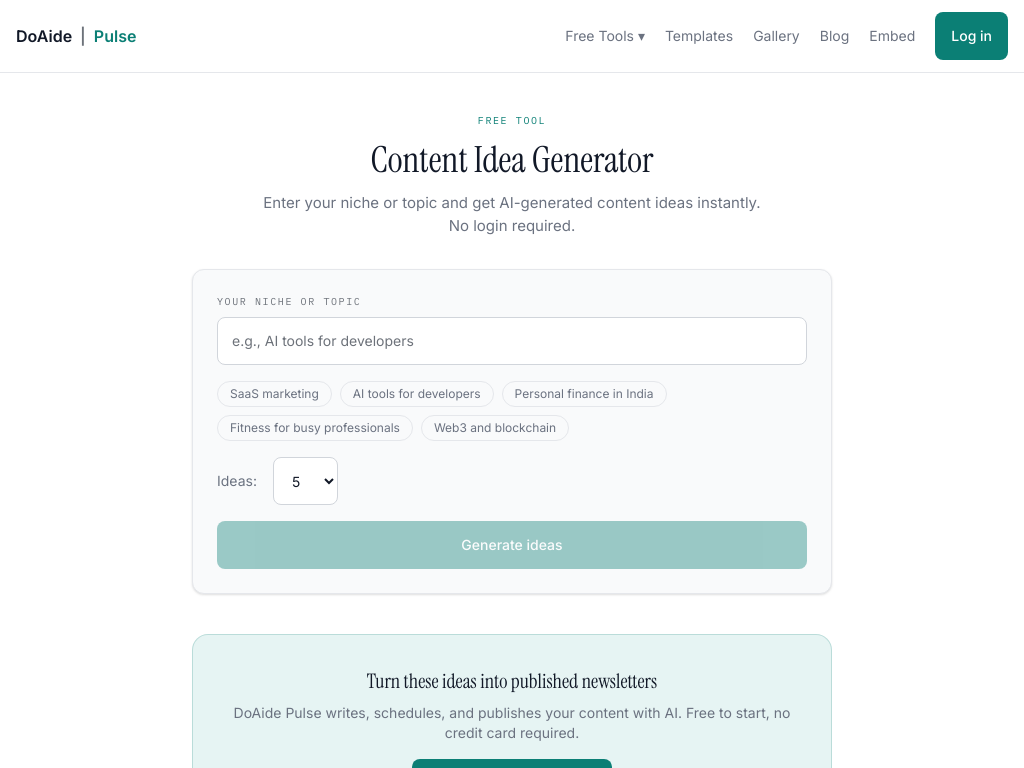
Scenario: ContentIdeaGenerator › clicking an example niche fills the input
What coordinates should you click on to do the following:
click the button "SaaS marketing"
I would click on:
 (274, 394)
Its box is 217,381 -> 332,407.
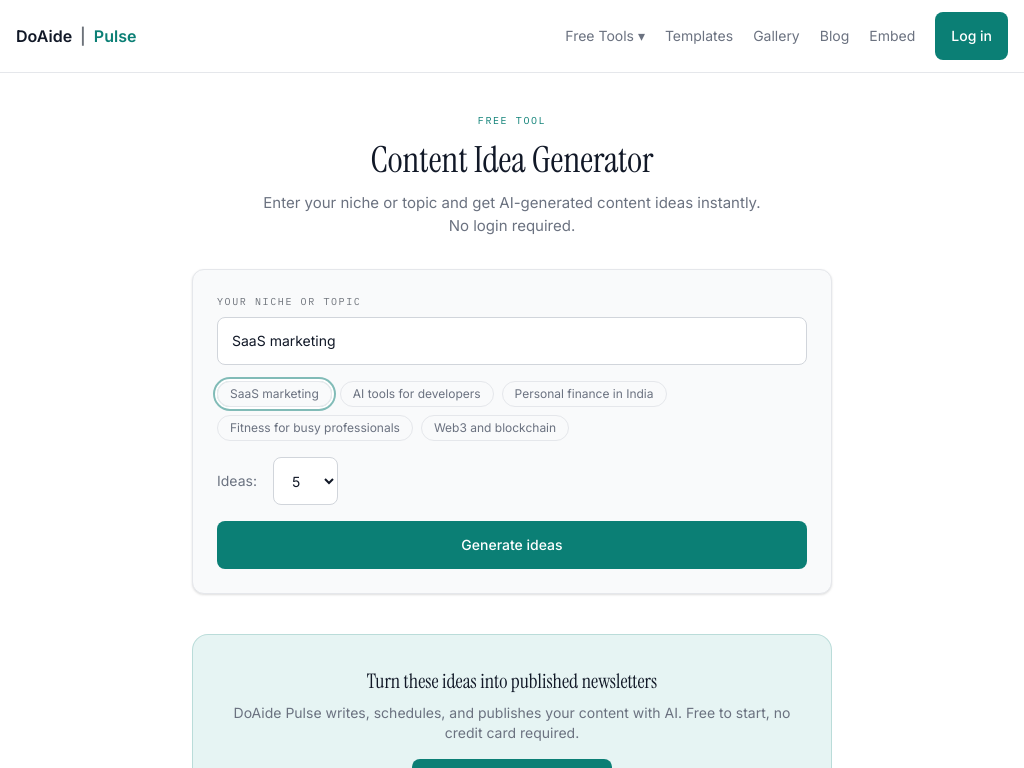
Result: the field labelled "Your niche or topic" holds "SaaS marketing" at 217,317 -> 807,365
